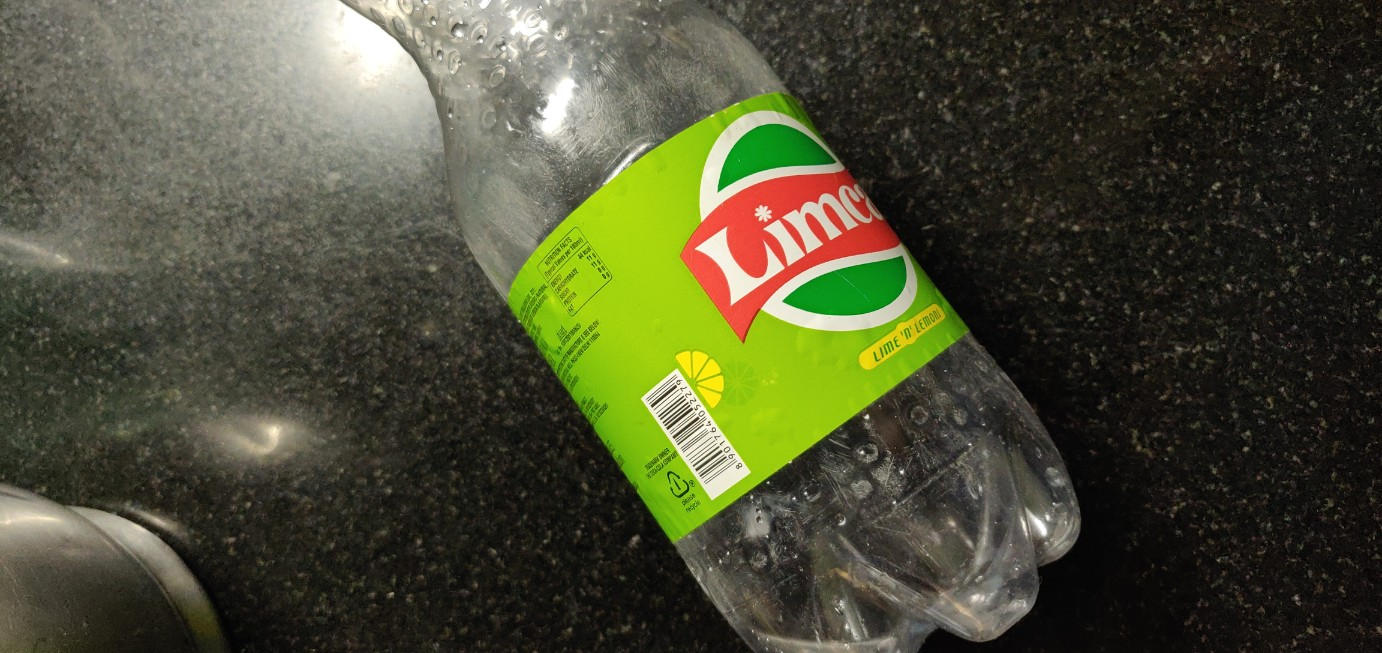Electronics: (322, 1, 1116, 652)
